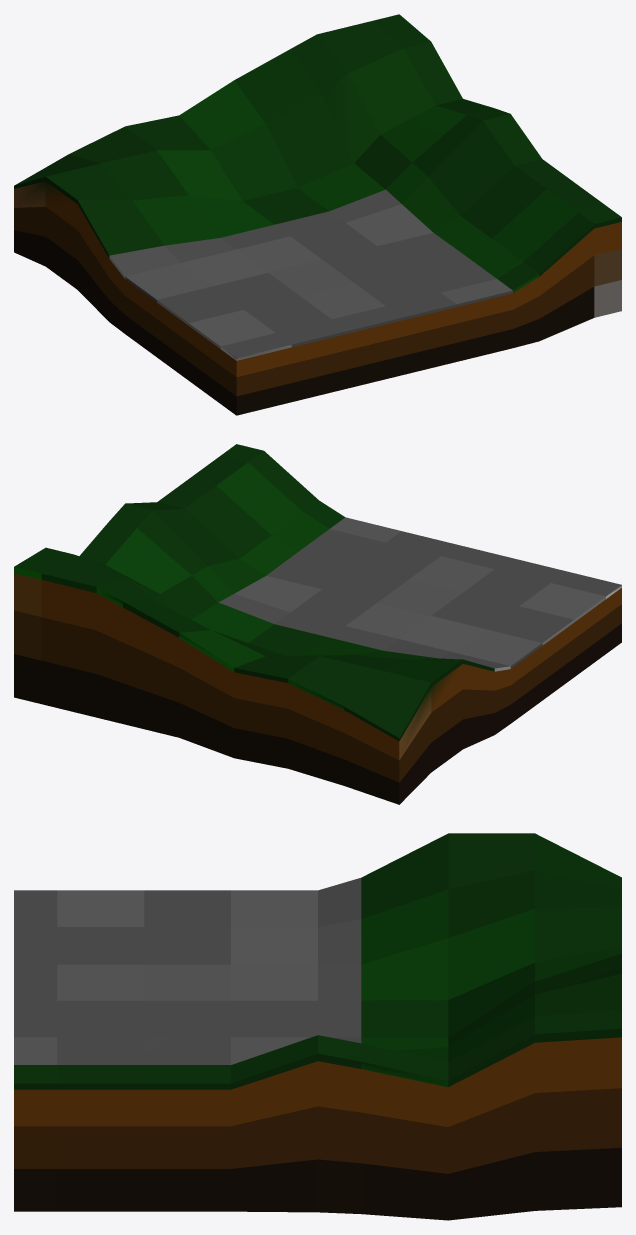
The model's file is SM_terrian_05.FBX.
3 views of the same model, one above another, from view 1: azimuth 30°, elevation 25°; view 2: azimuth 150°, elevation 25°; view 3: azimuth 270°, elevation 25° (orthographic). The views are drawn at different scales.
Visible parts, largest first — view 1: terrian_gasstation; view 2: terrian_gasstation; view 3: terrian_gasstation.
Part boxes in pixels (<box>): terrian_gasstation: <box>14,14,621,415</box>; terrian_gasstation: <box>14,444,621,804</box>; terrian_gasstation: <box>14,833,621,1220</box>.
Size of the model in its own units: 3500 by 1254 by 3500.
